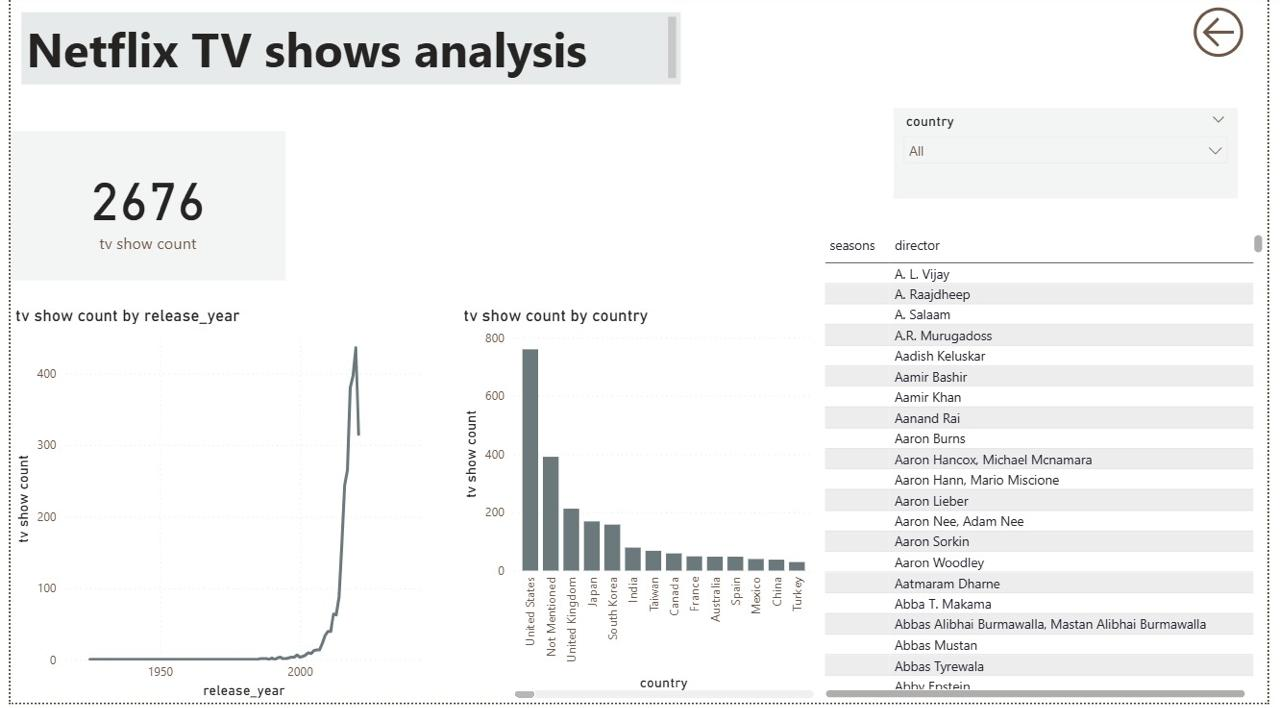

The dashboard page shown, as its layout file describes it:
{"tool":"powerbi","page":{"name":"tv shows","canvas":[1280,720],"ordinal":2},"visuals":[{"type":"card","fields":{"Values":["netflix_titles.tv show count"]},"box":[0,138.3,280,151.7],"z":0},{"type":"columnChart","fields":{"Category":["netflix_titles.country"],"Y":["netflix_titles.tv show count"]},"box":[456.7,315,366.7,405],"z":1000},{"type":"lineChart","fields":{"Category":["netflix_titles.release_year"],"Y":["netflix_titles.tv show count"]},"box":[0,315,426.7,405],"z":2000},{"type":"tableEx","fields":{"Values":["netflix_titles.seasons","netflix_titles.director"]},"box":[823.3,238.3,456.7,481.7],"z":3000},{"type":"slicer","fields":{"Values":["netflix_titles.country"]},"box":[898.3,115,350,91.7],"z":4000},{"type":"textbox","box":[11,17.1,671.3,73.4],"z":5000},{"type":"actionButton","box":[1180,0,100,75],"z":6000}]}

Visuals, with their boxes in screenshot pixels (x1, y1, x2, y2), scaled from the page's 1280x720 canvas onto the 1280x708 screenshot:
card - netflix_titles.tv show count: x1=0, y1=136, x2=280, y2=285
columnChart - netflix_titles.country x netflix_titles.tv show count: x1=457, y1=310, x2=823, y2=707
lineChart - netflix_titles.release_year x netflix_titles.tv show count: x1=0, y1=310, x2=427, y2=707
tableEx - netflix_titles.seasons x netflix_titles.director: x1=823, y1=234, x2=1279, y2=707
slicer - netflix_titles.country: x1=898, y1=113, x2=1248, y2=203
textbox: x1=11, y1=17, x2=682, y2=89
actionButton: x1=1180, y1=0, x2=1279, y2=74
